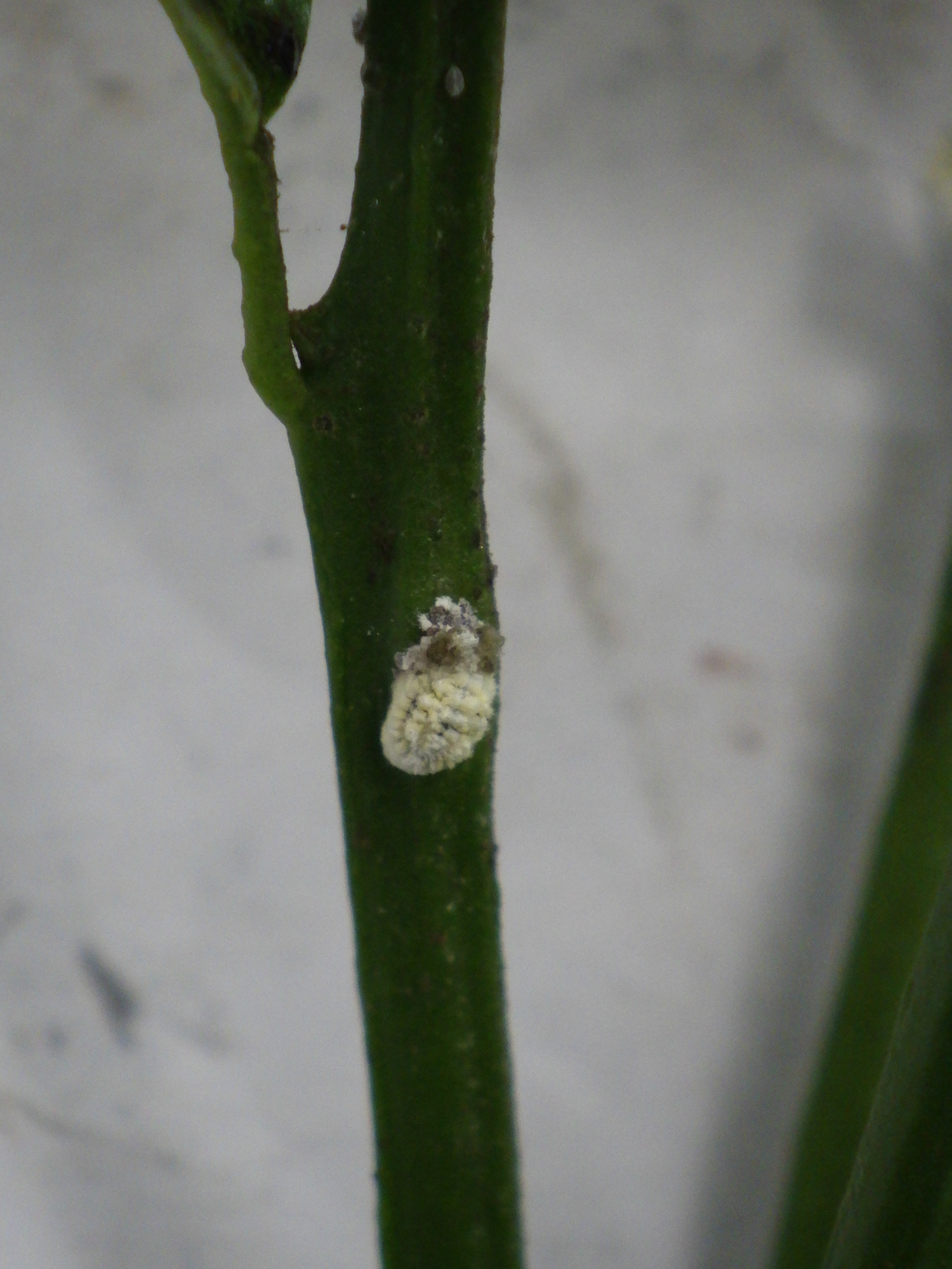Scale_Insect: (381, 597, 502, 775)
